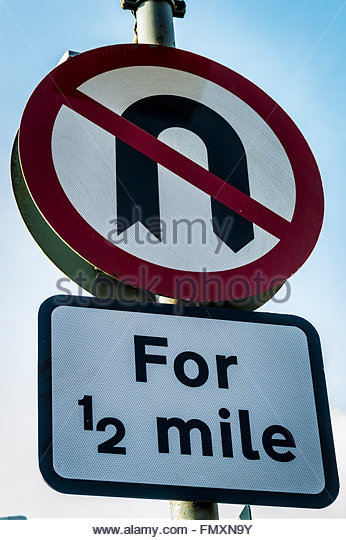No_u_turn: (20, 43, 326, 306)
